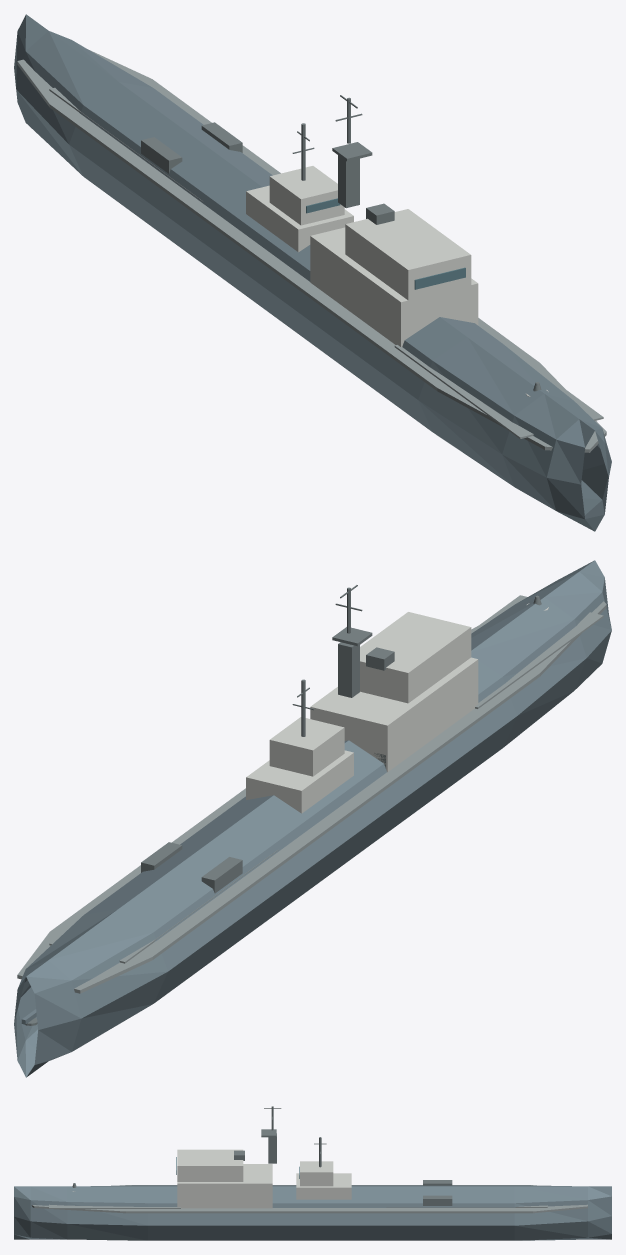
File: ins-mumbai.glb
The picture shows the model from 3 angles, top to bottom: view 1: azimuth 30°, elevation 25°; view 2: azimuth 150°, elevation 25°; view 3: azimuth 270°, elevation 25°; orthographic projection. The views are drawn at different scales.
Visible parts, largest first — view 1: INS Mumbai hull, Ship superstructure, Non-skid deck, Ship fittings, Bridge glazing; view 2: INS Mumbai hull, Ship superstructure, Non-skid deck, Ship fittings; view 3: INS Mumbai hull, Ship superstructure, Non-skid deck, Ship fittings.
Part boxes in pixels (x1,y1,x2,y2): INS Mumbai hull: (14, 14, 611, 531); Ship superstructure: (246, 166, 548, 396); Non-skid deck: (17, 49, 606, 452); Ship fittings: (141, 95, 541, 391); Bridge glazing: (306, 198, 465, 289); INS Mumbai hull: (14, 560, 611, 1077); Ship superstructure: (246, 603, 548, 813); Non-skid deck: (17, 595, 606, 993); Ship fittings: (25, 585, 541, 1025); INS Mumbai hull: (14, 1185, 611, 1240); Ship superstructure: (72, 1149, 351, 1208); Non-skid deck: (31, 1185, 587, 1213); Ship fittings: (72, 1106, 452, 1205).
Bounding box in the file's own units: 17 × 40 × 163.
